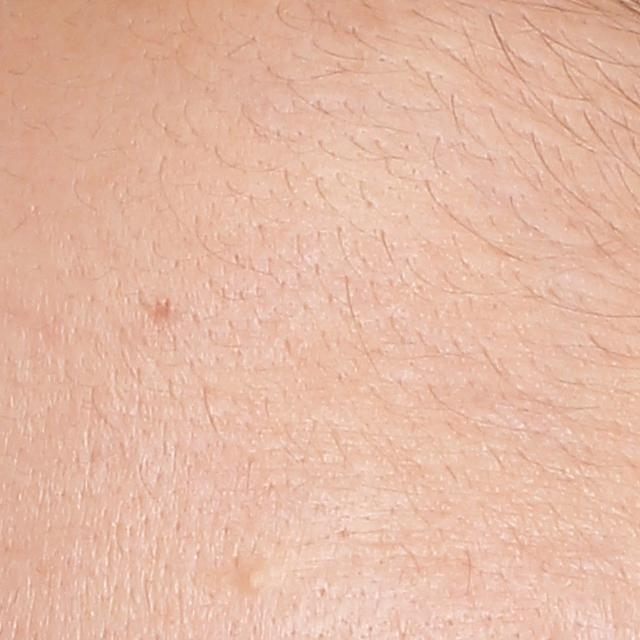atrophic_scar: (138, 289, 175, 333)
comedo: (237, 561, 276, 595), (314, 579, 329, 597)
